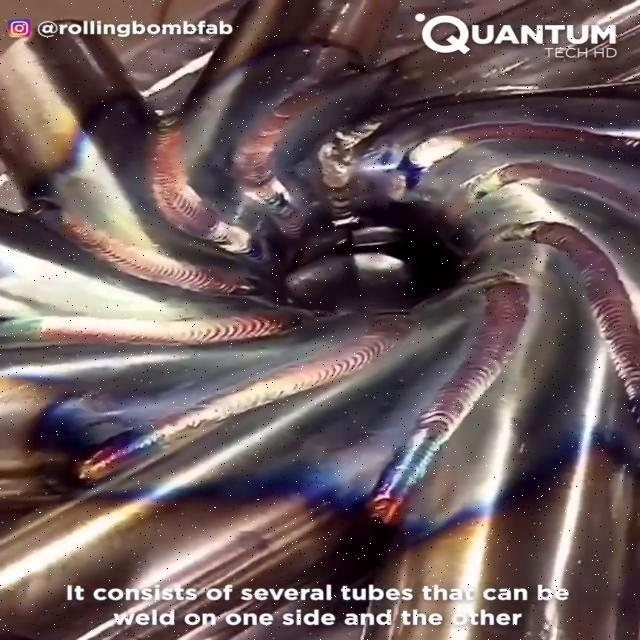Good Welding: (78, 314, 414, 481)
